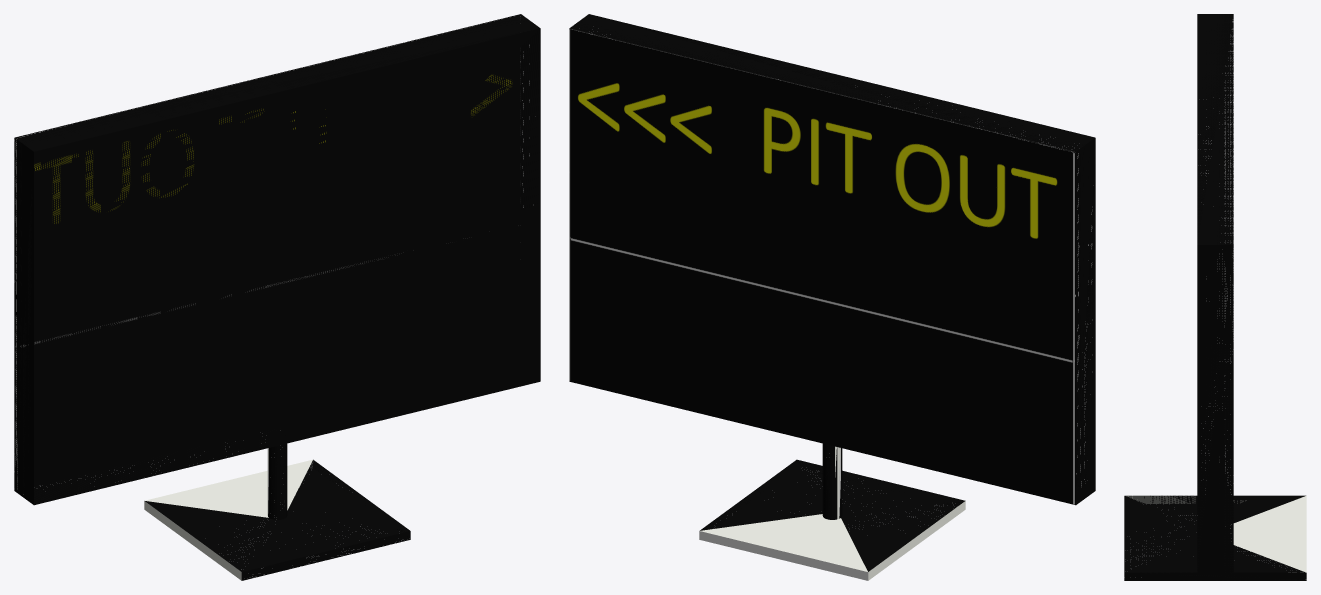
The model's file is PIT_OUT.dae.
3 renders of one model, left to right at view 1: azimuth 30°, elevation 25°; view 2: azimuth 150°, elevation 25°; view 3: azimuth 270°, elevation 25°, orthographic. The views are drawn at different scales.
Visible parts, largest first — view 1: Schild; view 2: Schild; view 3: Schild.
Boxes of the visible parts, x1,y1,x2,y2 form: Schild: [14, 14, 540, 580]; Schild: [569, 14, 1095, 580]; Schild: [1124, 14, 1306, 580].
Size of the model in its own units: 0.3 by 0.1 by 0.25.
Materials: 2 (1 with a texture image).
